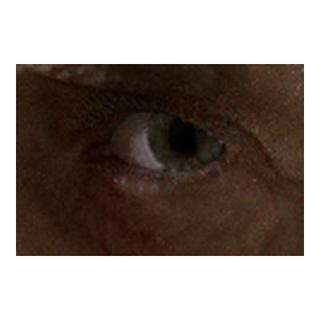pupil: (168, 116, 205, 153)
